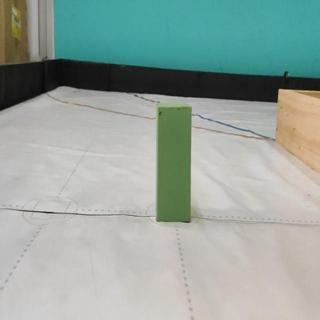greenbox: (155, 103, 193, 224)
